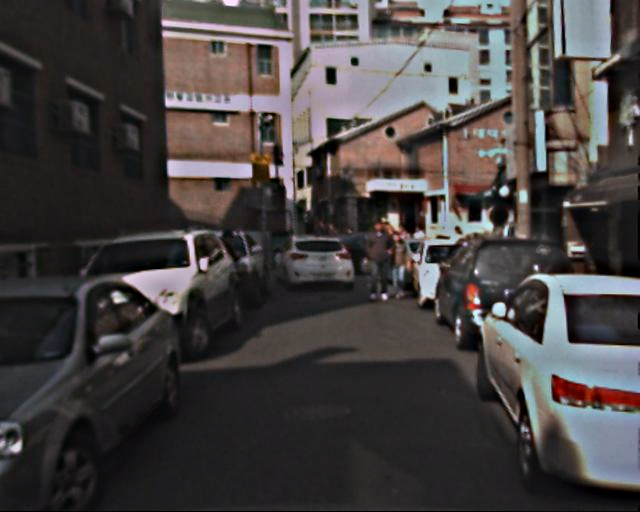person: (213, 230, 247, 313), (361, 221, 394, 302), (383, 232, 412, 302)
